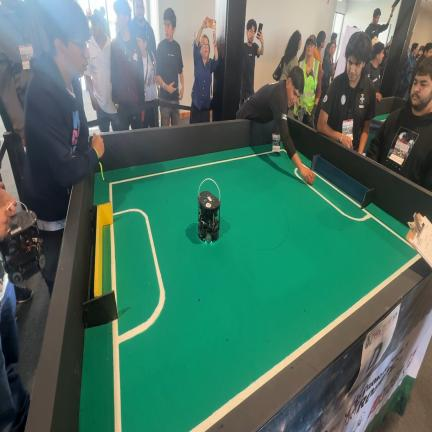cancha: (79, 146, 420, 432), (299, 153, 313, 166)
limites: (189, 253, 422, 432), (112, 208, 165, 432), (294, 165, 412, 247), (108, 151, 273, 207), (110, 222, 117, 301), (297, 152, 311, 171)
porteria: (82, 202, 118, 328), (311, 155, 374, 209)
robot: (0, 201, 45, 284), (198, 191, 220, 242)
